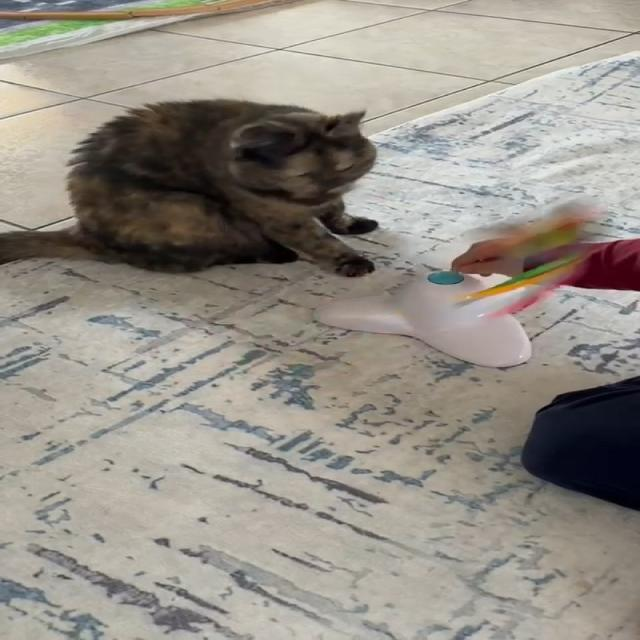authorized: (0, 97, 380, 278)
